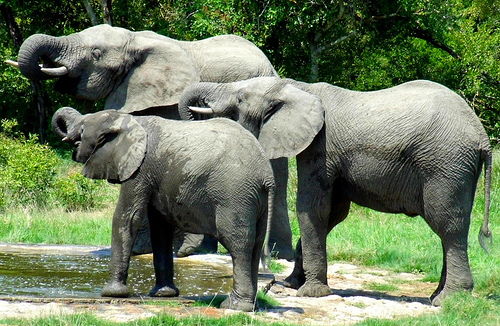elephant: (180, 72, 500, 306), (10, 20, 300, 262), (45, 102, 282, 320)
